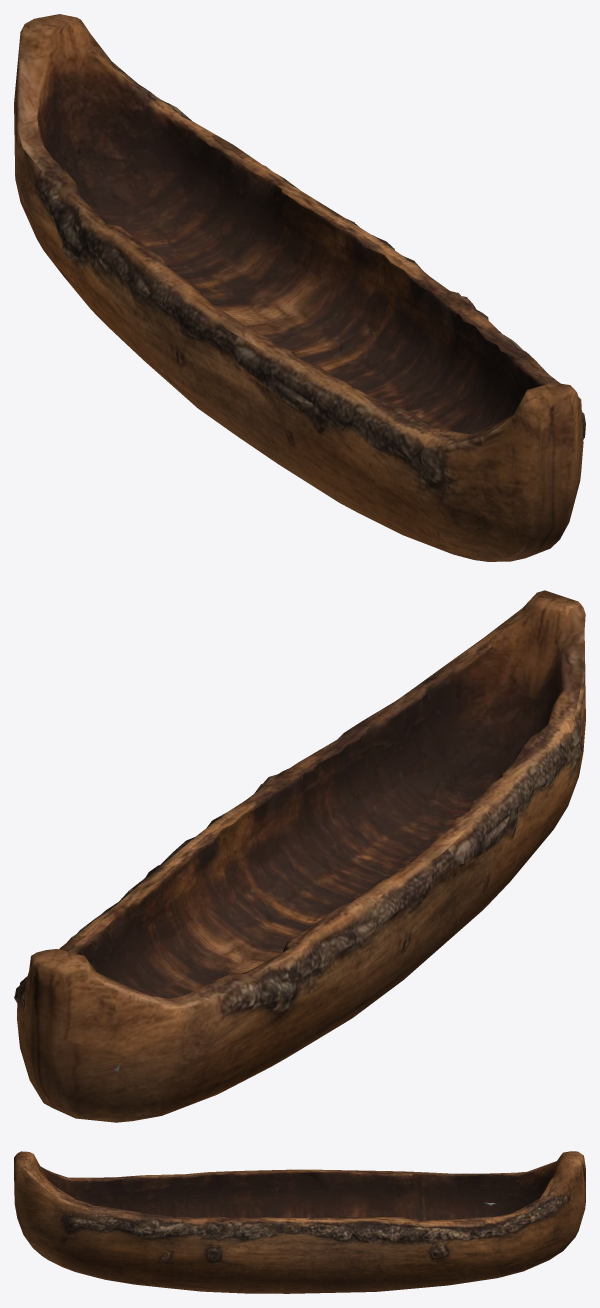
3 views of the same model, one above another, from view 1: azimuth 30°, elevation 25°; view 2: azimuth 150°, elevation 25°; view 3: azimuth 270°, elevation 25° (orthographic). The views are drawn at different scales.
Parts seen in each view (by area): view 1: dugout-canoe.001; view 2: dugout-canoe.001; view 3: dugout-canoe.001.
Boxes of the visible parts, x1,y1,x2,y2 form: dugout-canoe.001: [14, 14, 585, 561]; dugout-canoe.001: [14, 590, 585, 1122]; dugout-canoe.001: [14, 1151, 585, 1293].
Size of the model in its own units: 0.9562 by 0.95 by 3.8.
Materials: 1 (1 with a texture image).
